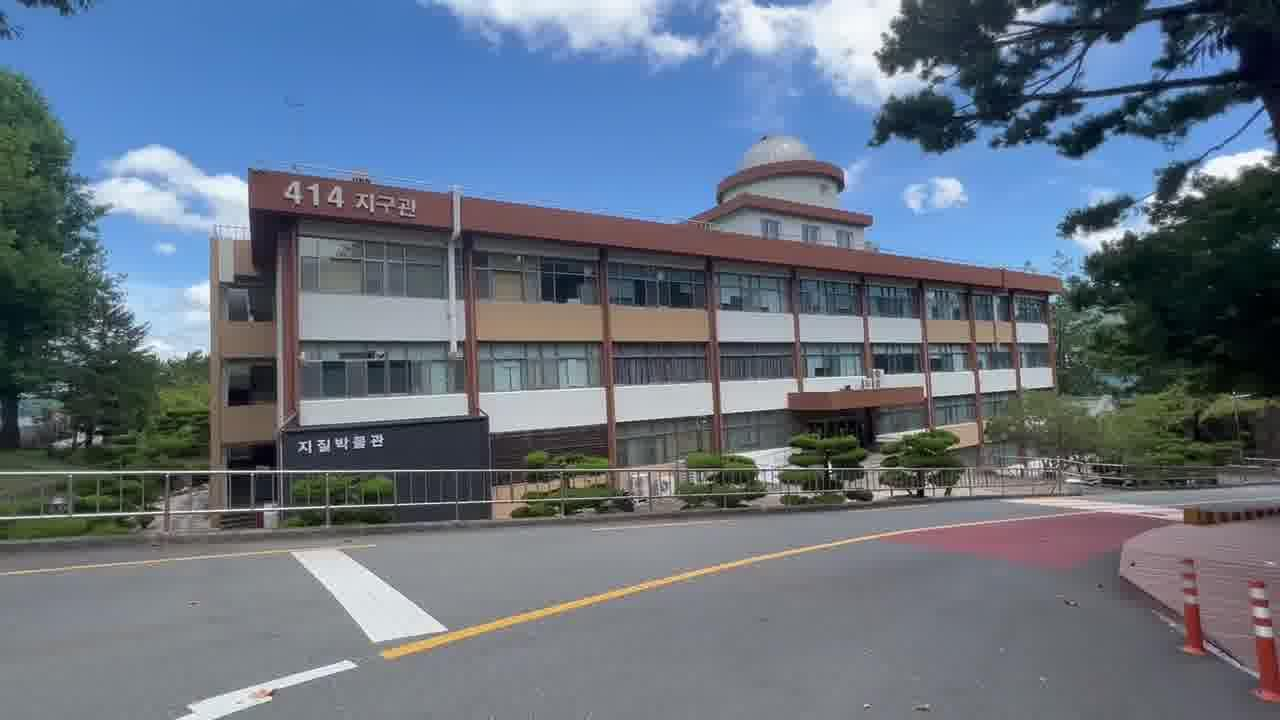building: (197, 116, 1068, 476)
